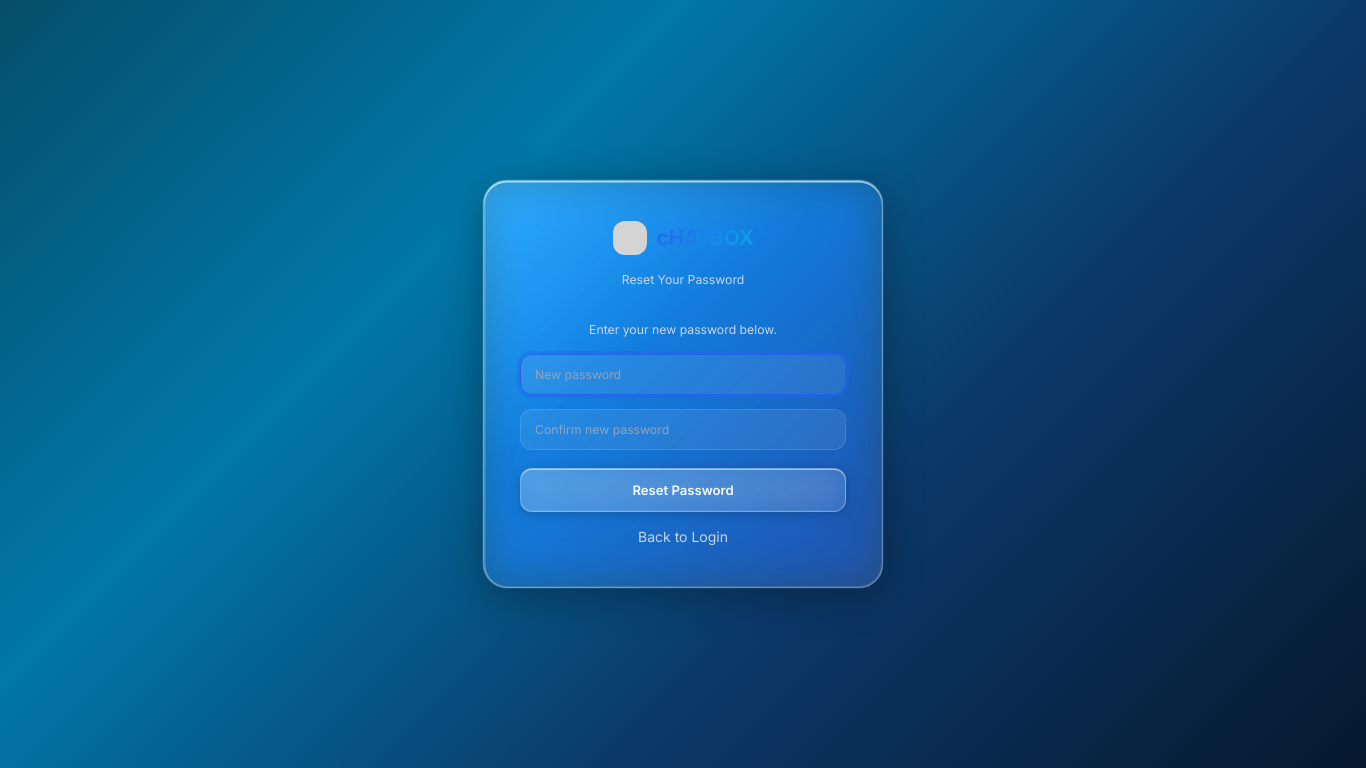
Test: ResetPasswordPage › shows error when no token in URL
The image size is (1366, 768).
Type "x-new-val" into the password field with test id "reset-new-password" at {"x": 683, "y": 374}, box [520,354,846,395]
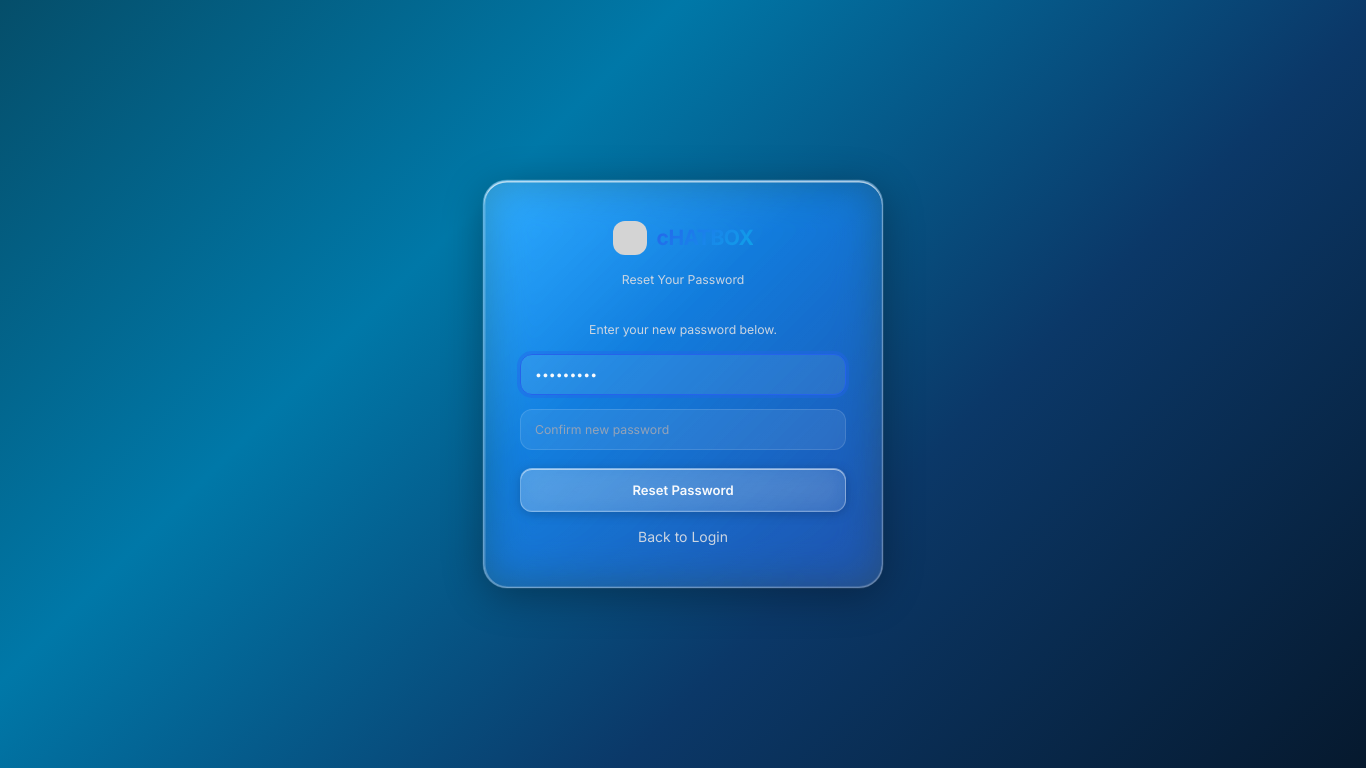
Type "x-new-val" into the password field with test id "reset-confirm-password" at {"x": 683, "y": 429}, box [520,409,846,450]
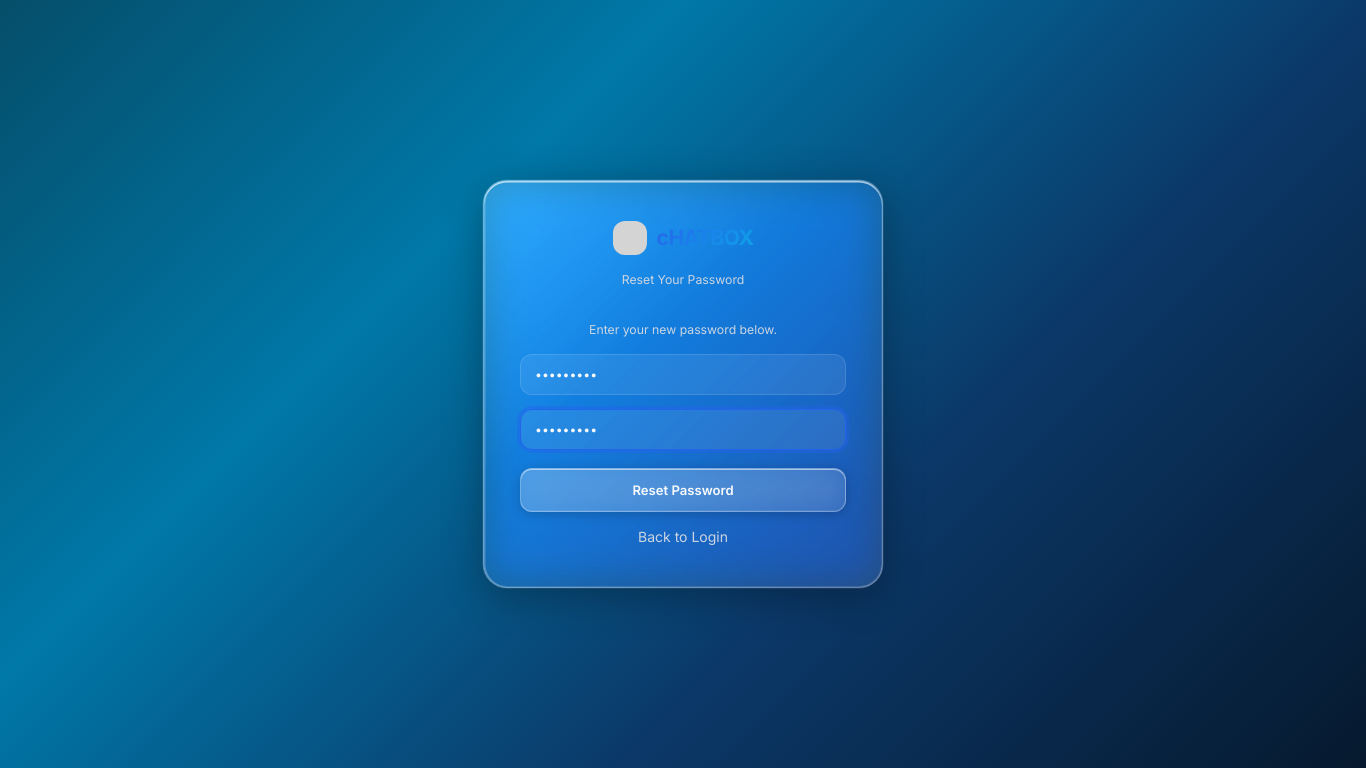
Click the button "Reset Password" at {"x": 683, "y": 490}, box [520,468,846,512]
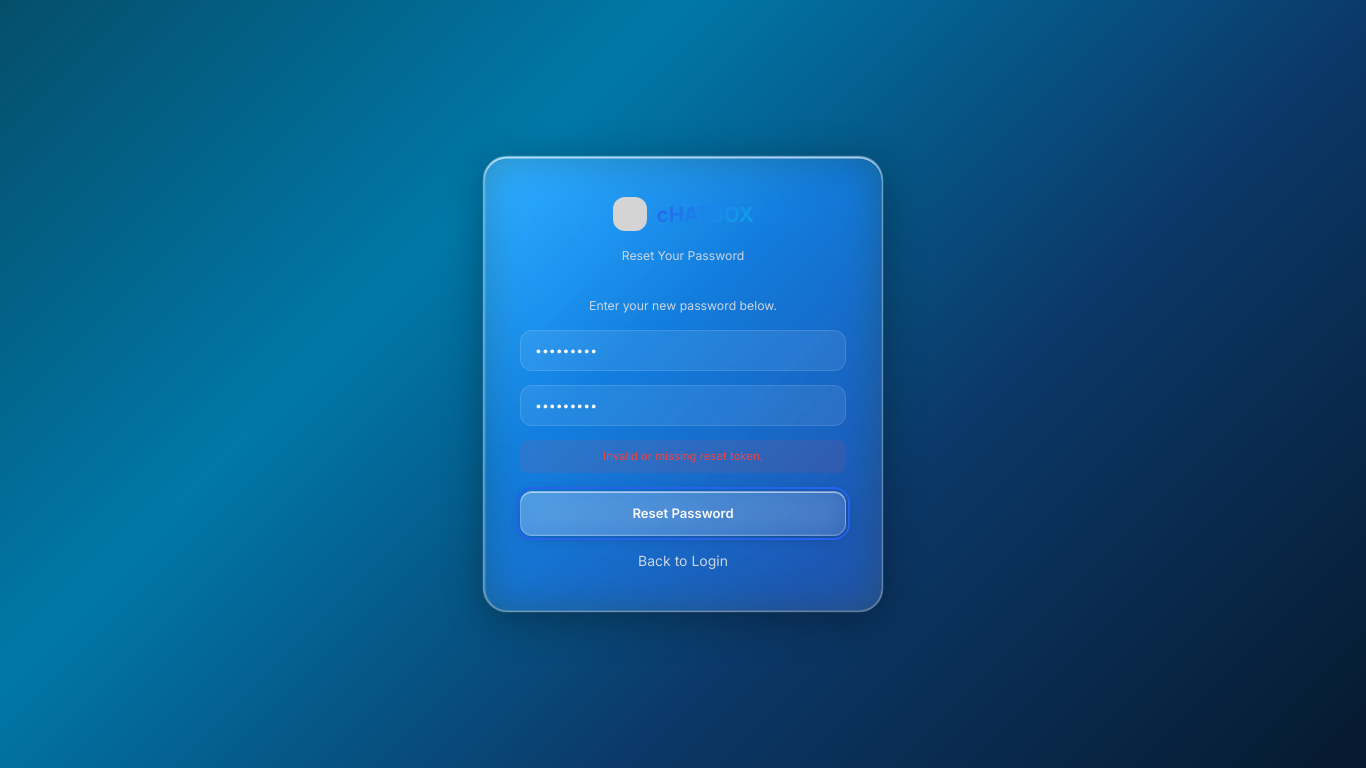
Expected: the text "Invalid or missing reset token." is shown, [520,440,846,473]
